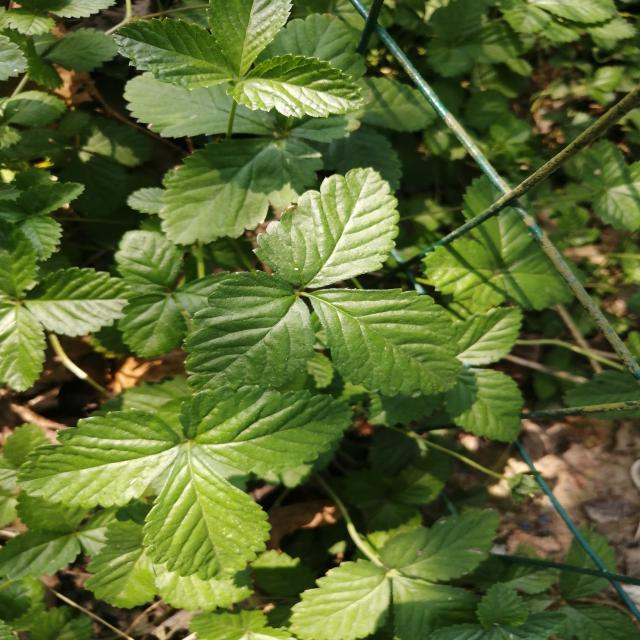Mock_strawberry: (138, 154, 498, 410), (76, 379, 384, 576), (125, 0, 371, 133)
